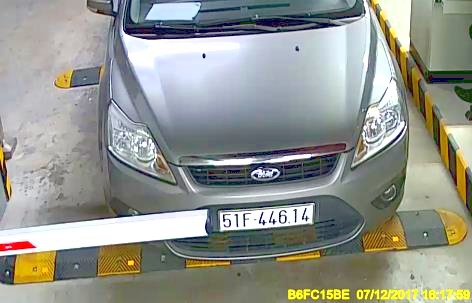plate: (215, 203, 318, 227)
